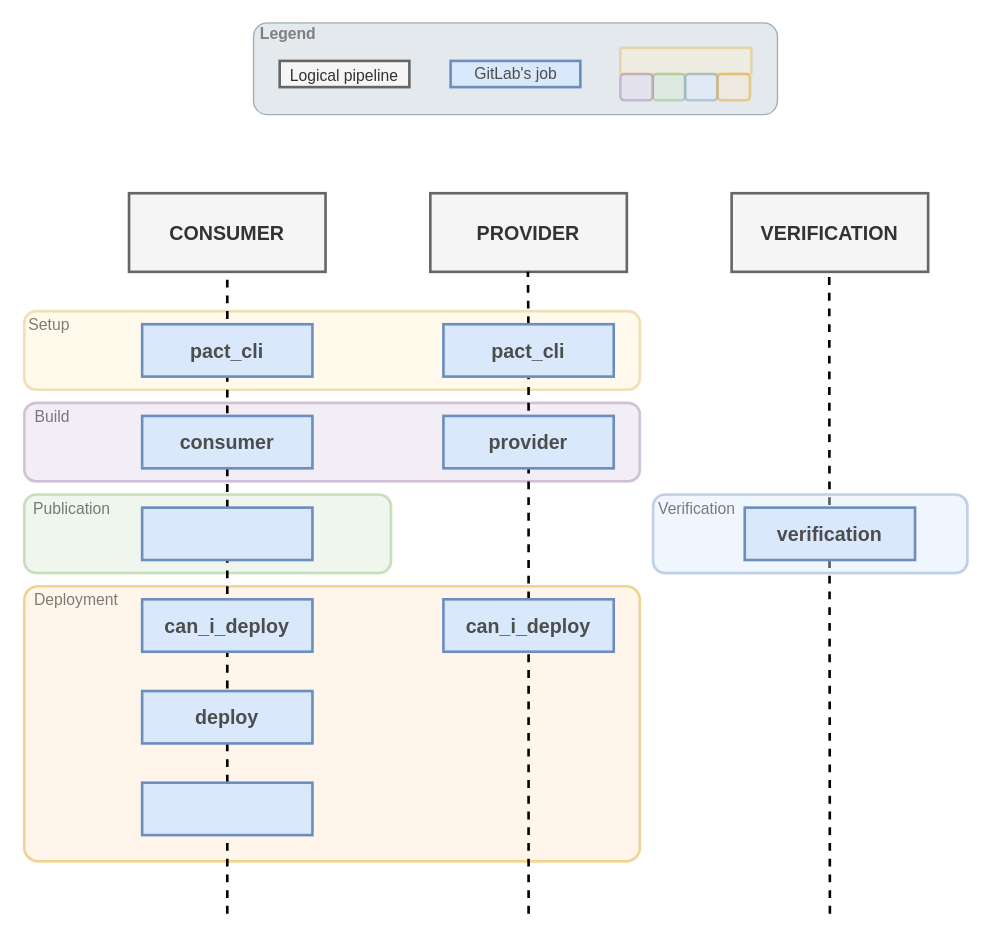
Some shapes in this 990 by 939 pixel diagram are drawn without their labels. Each missing label, with the centre of its shape:
"GitLab's stages" goes at pixel 685 60.
"publish_contract" goes at pixel 226 533.
"tagging" goes at pixel 226 808.
